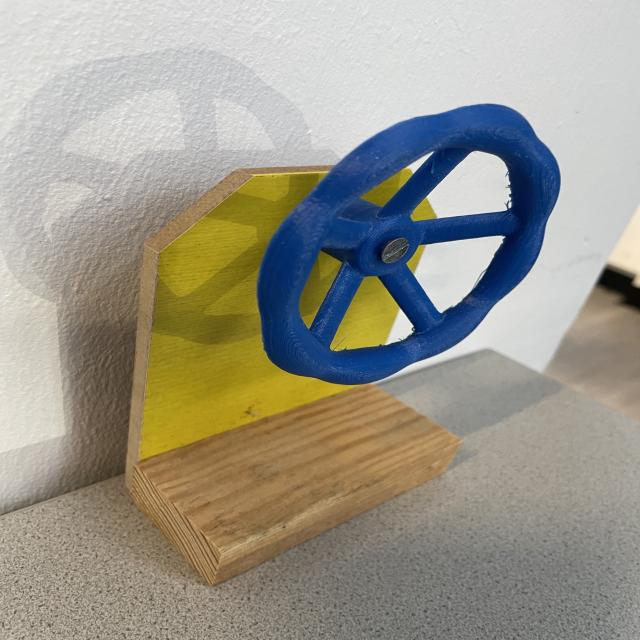Wheel Handle Valve Threaded: (254, 102, 562, 386)
